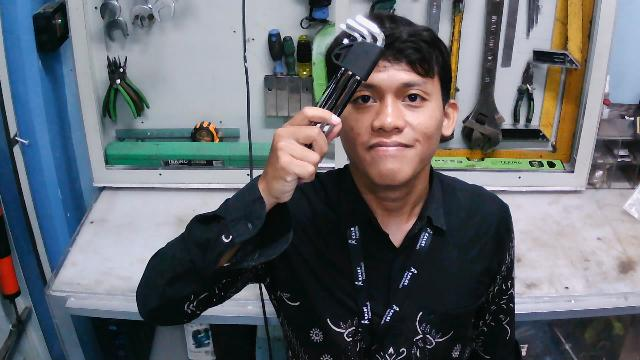kunci_l: (280, 10, 388, 170)
